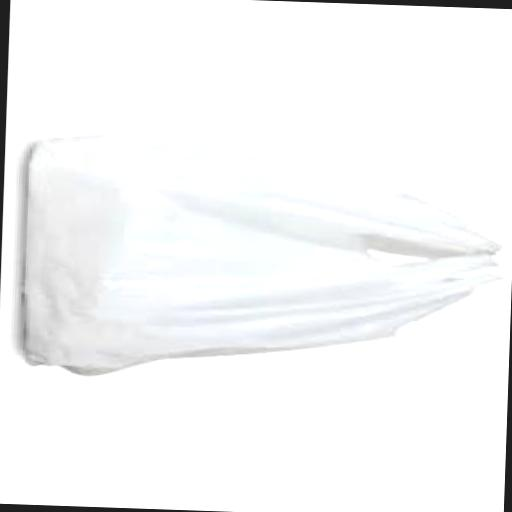plastic: (20, 130, 510, 388)
